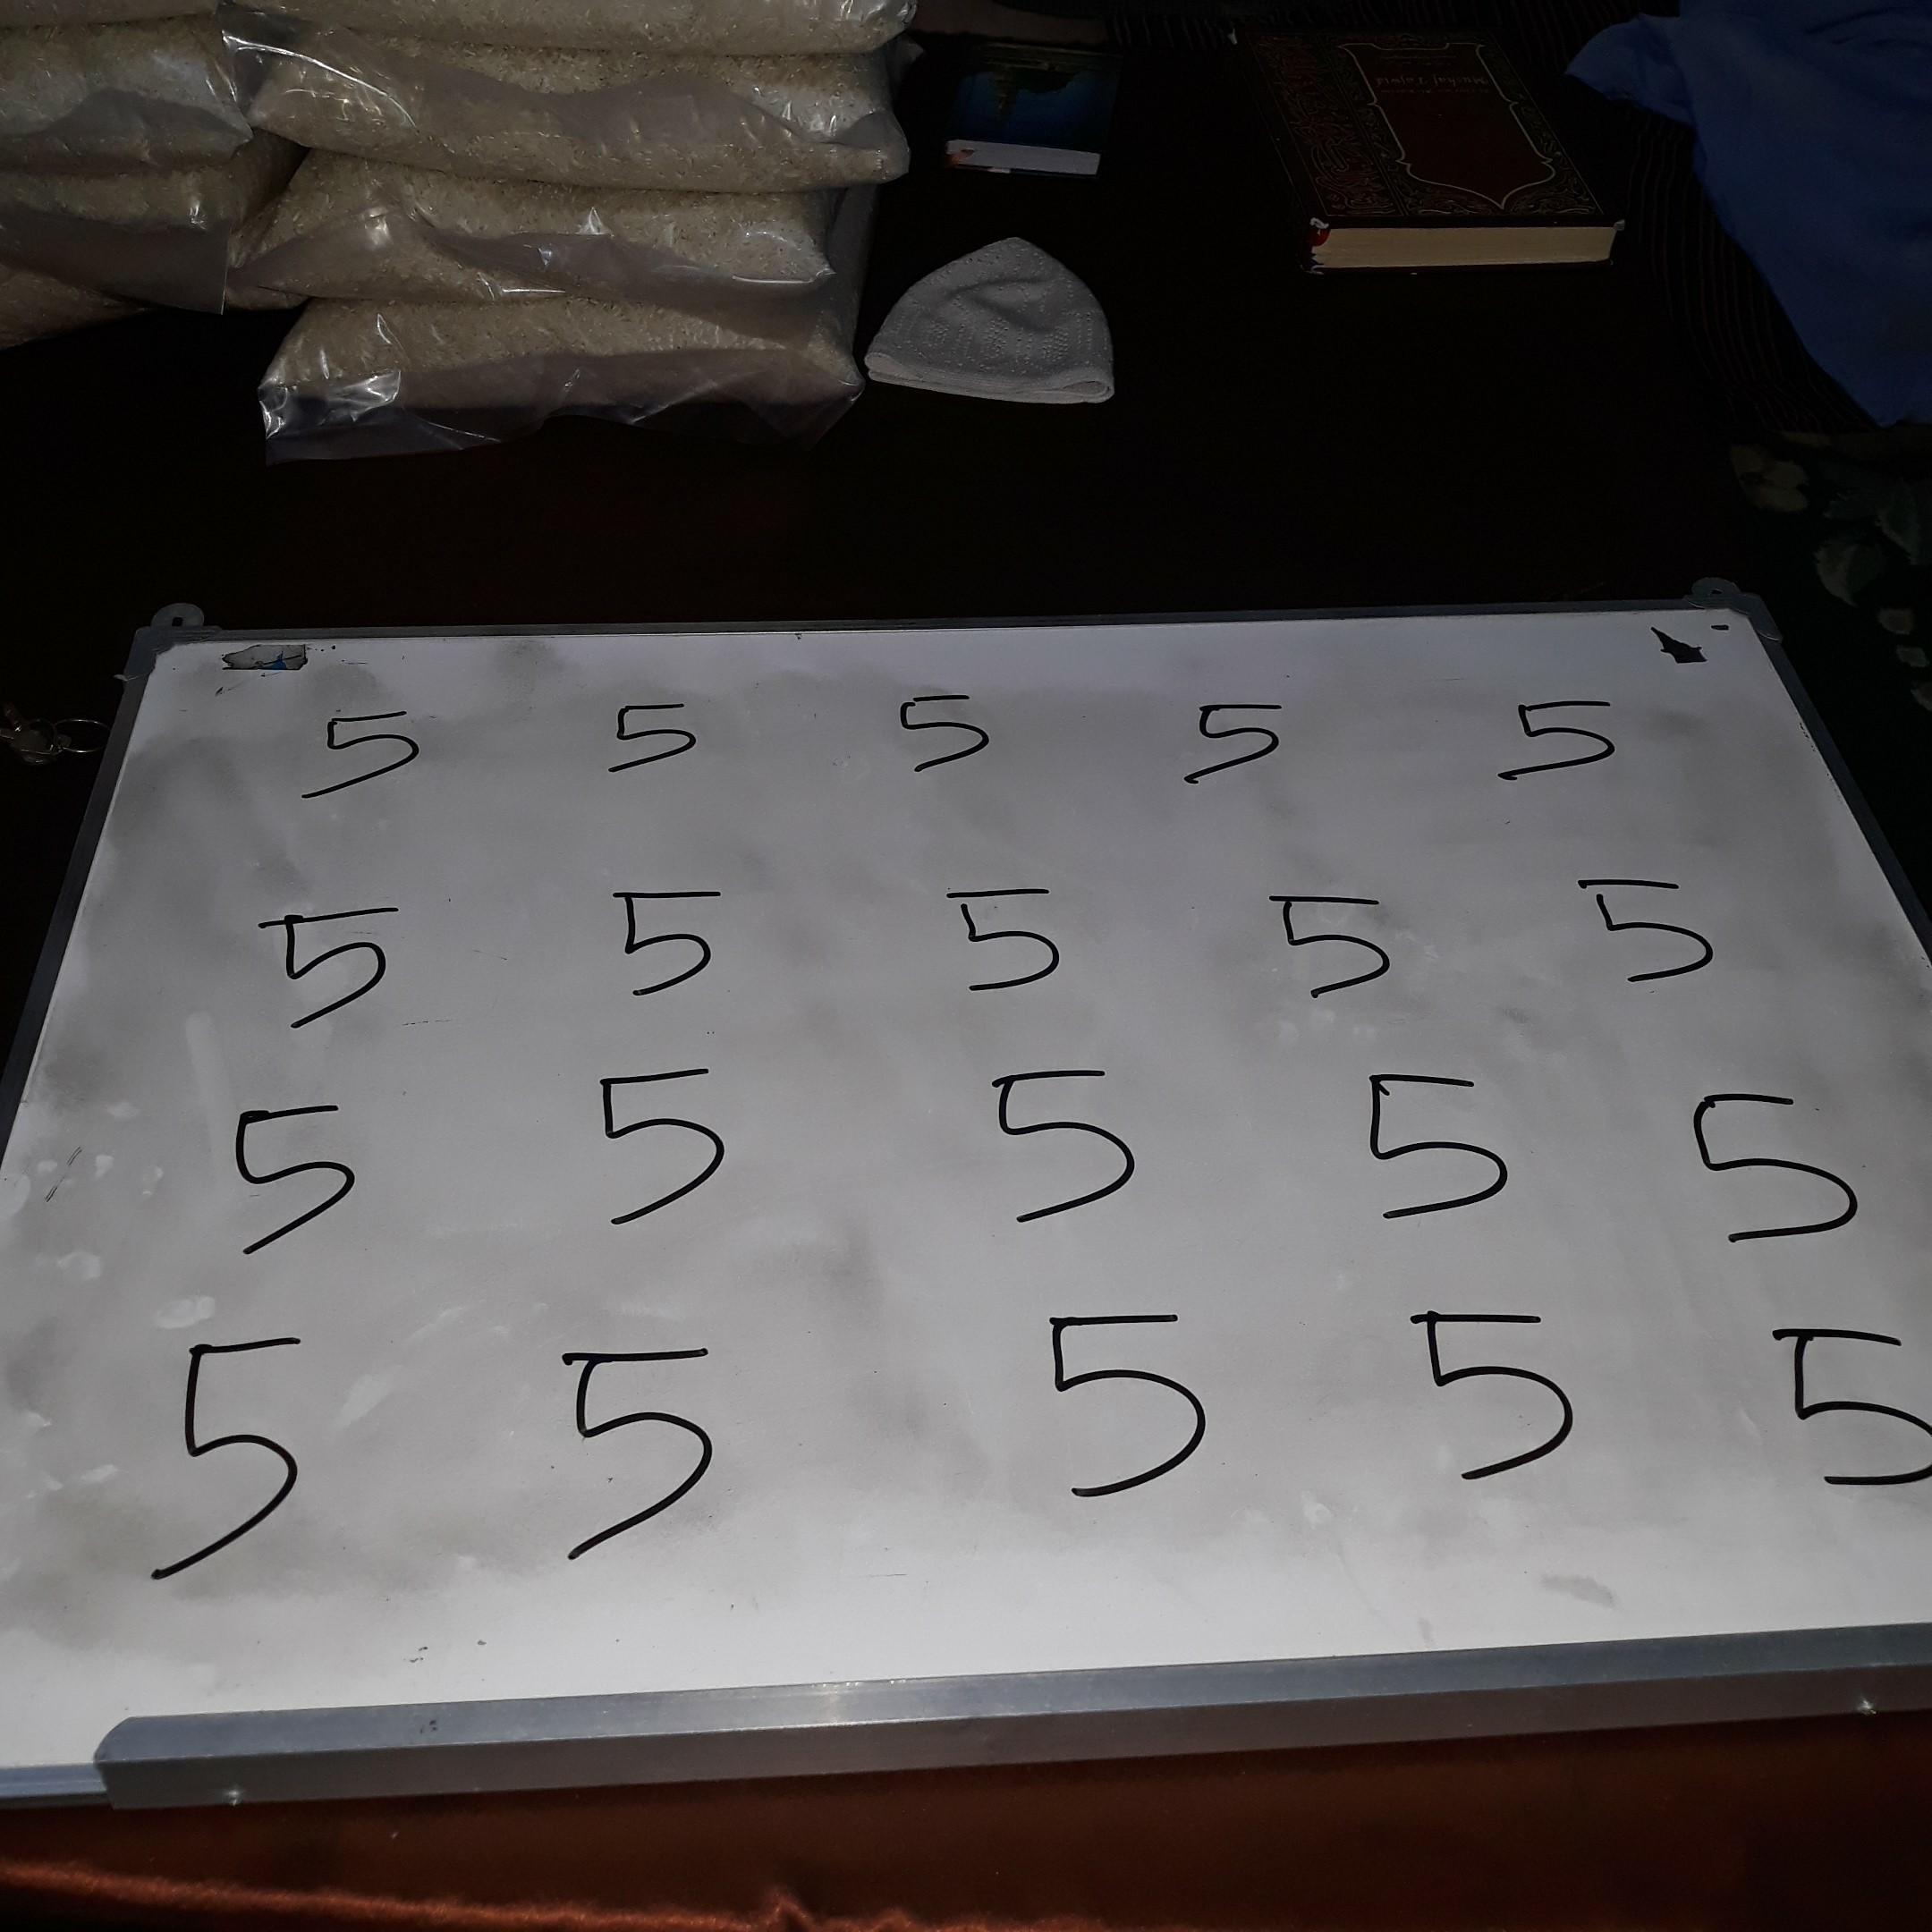num5: (139, 1311, 334, 1589), (547, 1328, 731, 1570), (1036, 1302, 1216, 1510), (1402, 1299, 1581, 1506), (1767, 1310, 1930, 1520), (1688, 1079, 1866, 1264), (979, 1054, 1148, 1236), (1348, 1058, 1517, 1241), (218, 1088, 368, 1268), (580, 1052, 730, 1233), (248, 893, 407, 1037), (583, 869, 742, 1013), (1570, 855, 1721, 996), (1253, 872, 1404, 1013), (928, 869, 1080, 1009), (287, 699, 436, 811), (576, 684, 720, 787), (872, 679, 1008, 787), (1165, 684, 1301, 792), (1493, 686, 1629, 794)
